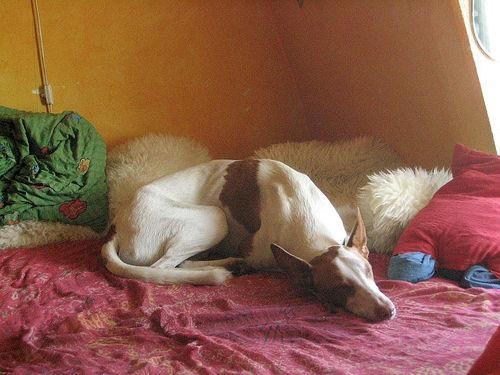Ibizan_hound: (101, 152, 396, 318)
